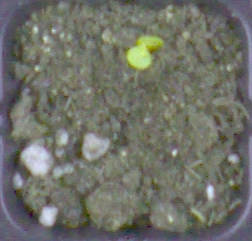pepper seed: (50, 7, 204, 77), (53, 9, 216, 62)
